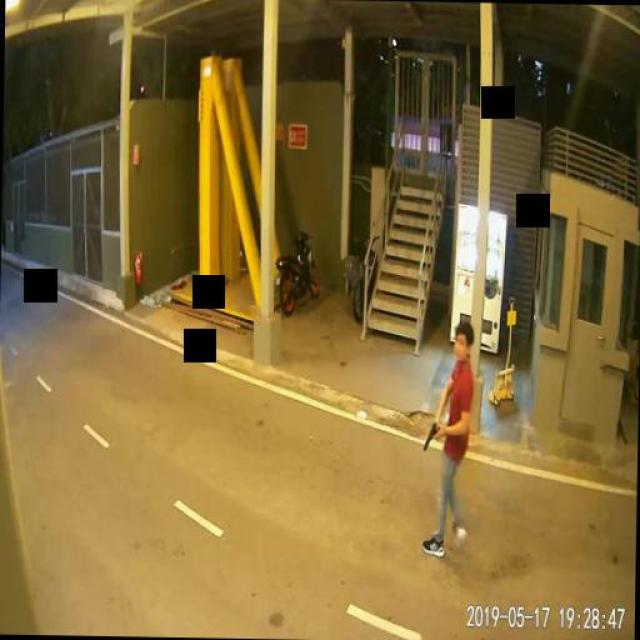gun: (422, 419, 438, 450)
